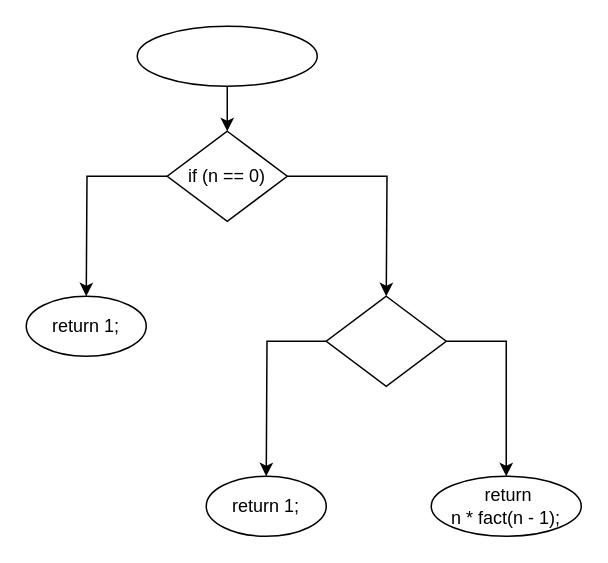
Some shapes in this 608 by 563 pixel diagram are drawn without their labels. The shapes that lost their labels are listed below. From the top down, each one's centre as x and y in pixels, then its label:
the point at 226,55: double fact(int n)
the point at 385,340: if(n==1)
